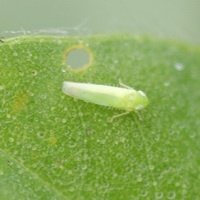insect: (62, 79, 147, 120)
